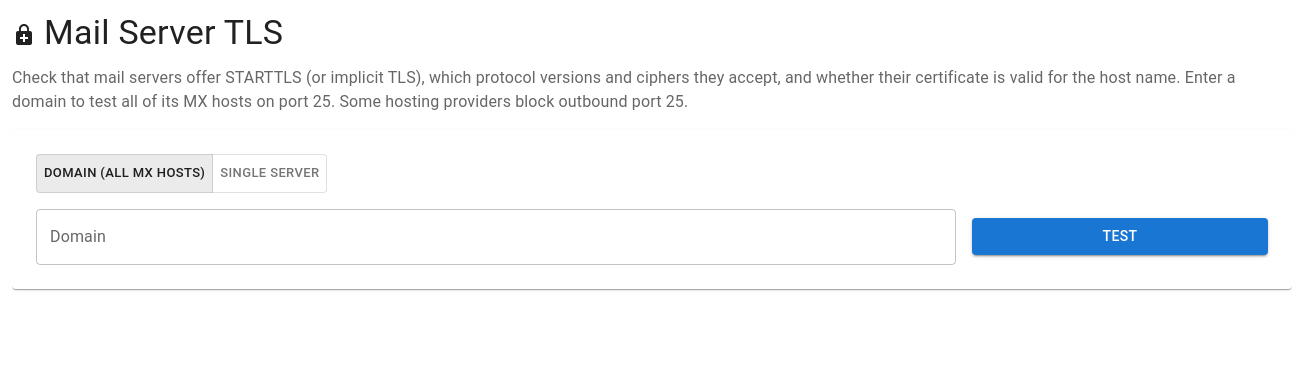
Test case: shows the server error
This screenshot has width=1292, height=372.
Type "internal.example" into the field labelled "Domain" at coordinates (496, 237), box [36,209,956,265]
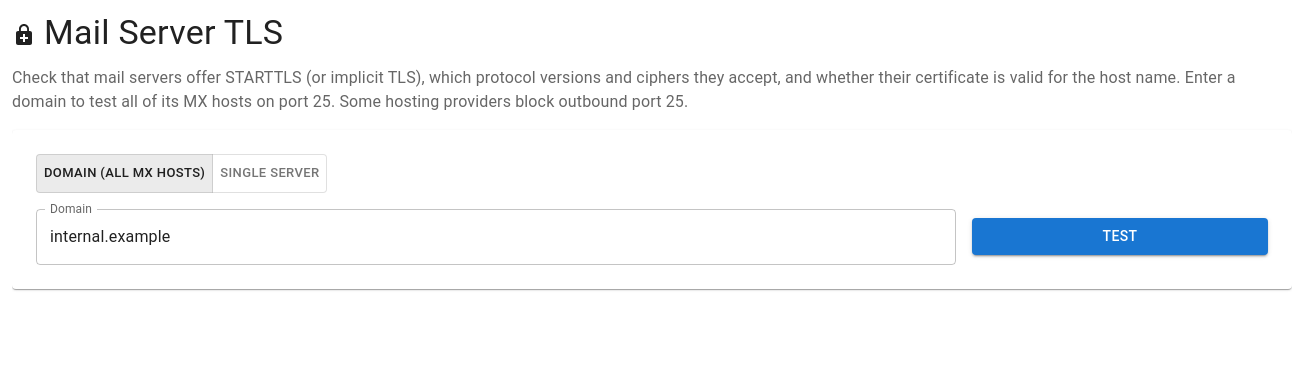
Click the button "Test" at coordinates (1120, 237), box [972,218,1268,255]
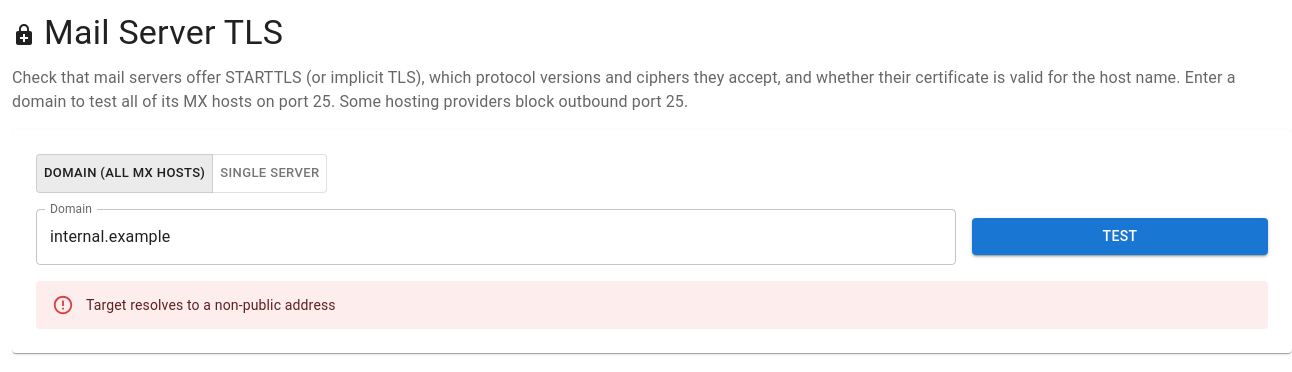
Expected: the text "Target resolves to a non-public address" is shown, [86,297,336,313]
